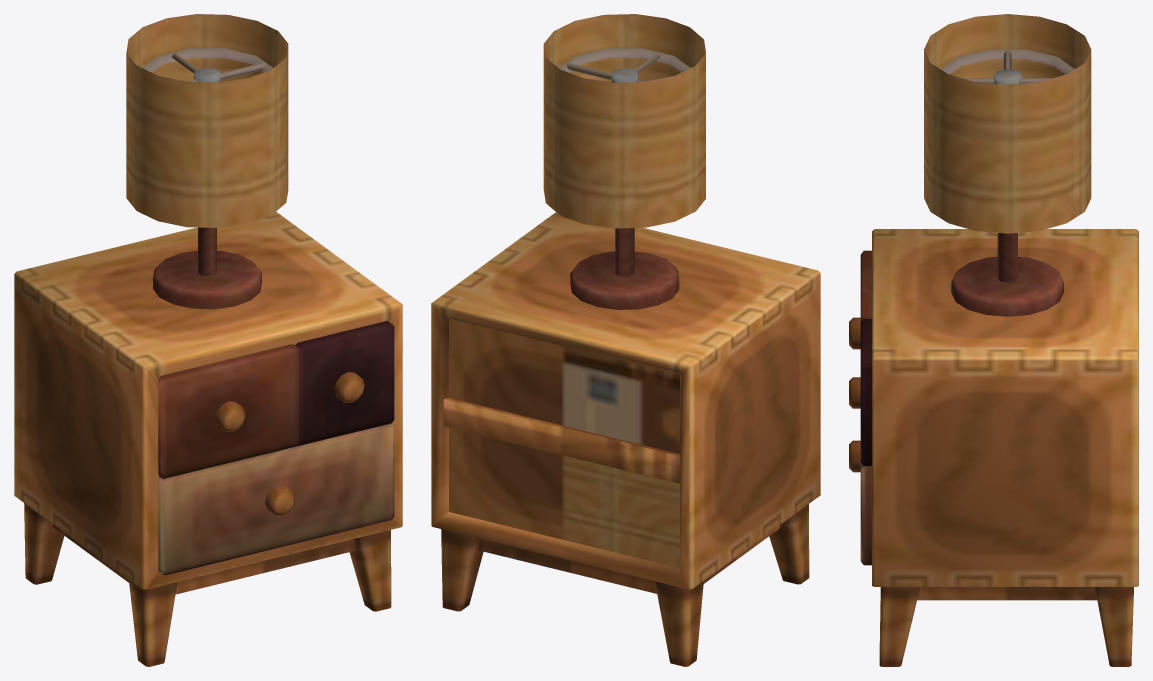
Rendered from rmk_mxw_lamp.dae.
The picture shows the model from 3 angles, left to right: view 1: azimuth 30°, elevation 25°; view 2: azimuth 150°, elevation 25°; view 3: azimuth 270°, elevation 25°; orthographic projection. The views are drawn at different scales.
Visible parts, largest first — view 1: rmk_mxw_lamp; view 2: rmk_mxw_lamp; view 3: rmk_mxw_lamp.
Boxes of the visible parts, x1,y1,x2,y2 form: rmk_mxw_lamp: [14, 14, 402, 666]; rmk_mxw_lamp: [431, 14, 820, 666]; rmk_mxw_lamp: [849, 14, 1138, 666].
Bounding box in the file's own units: 21.81 × 43.49 × 20.54.
1 material, 1 textured.
